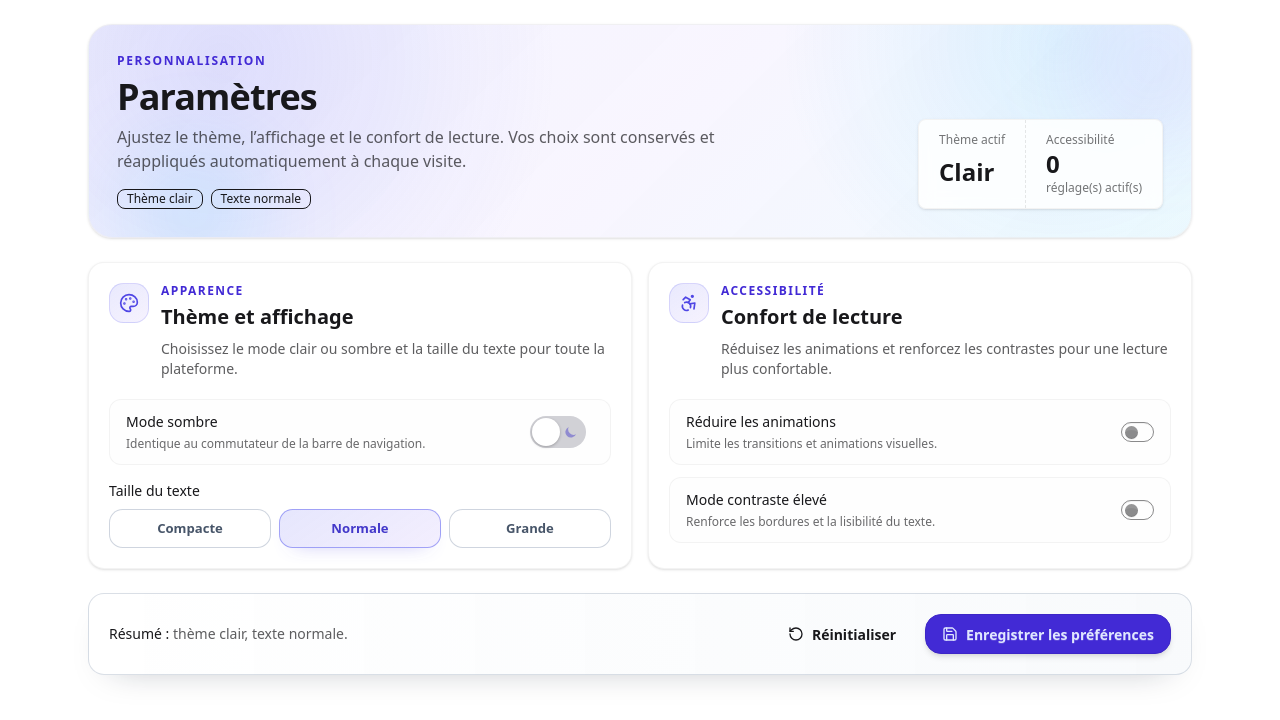
Test: Settings interactions › modifie le thème, la taille du texte et l’accessibilité
Click the checkbox named "Activer le mode sombre" at (558, 432), box left=530, top=416, right=586, bottom=448
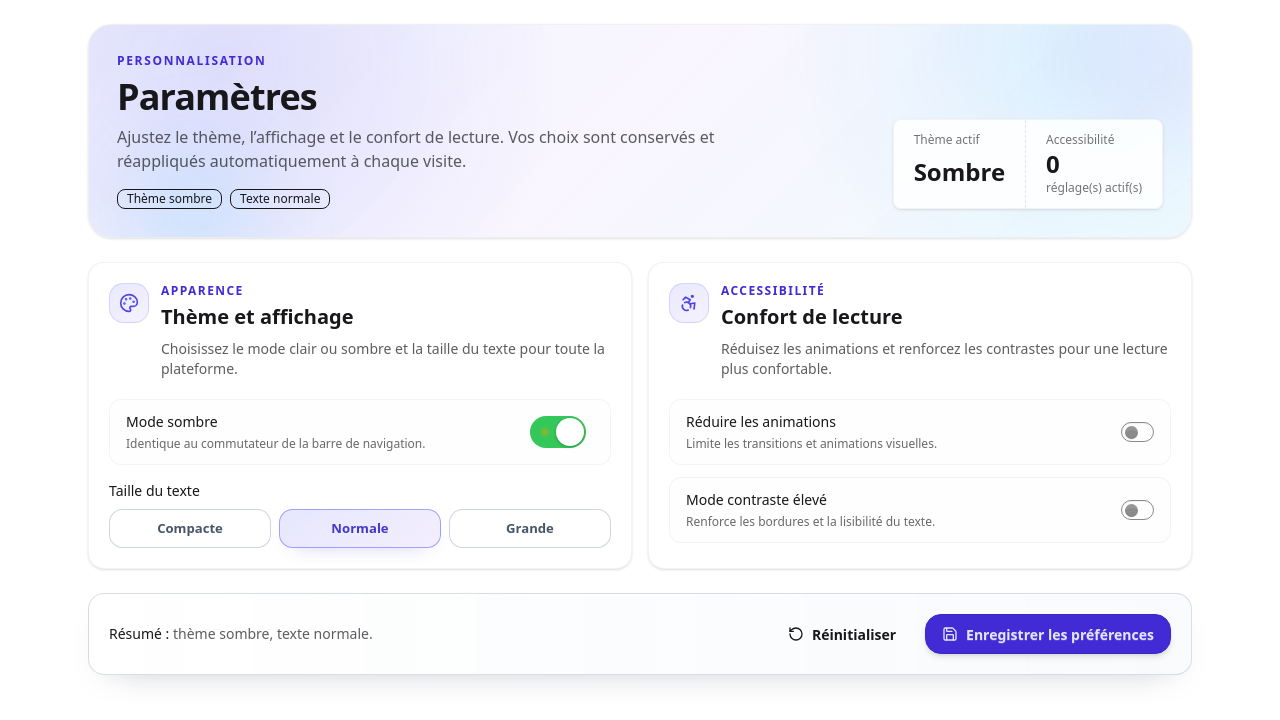
Click the button "Grande" at (530, 529), box left=449, top=509, right=611, bottom=548
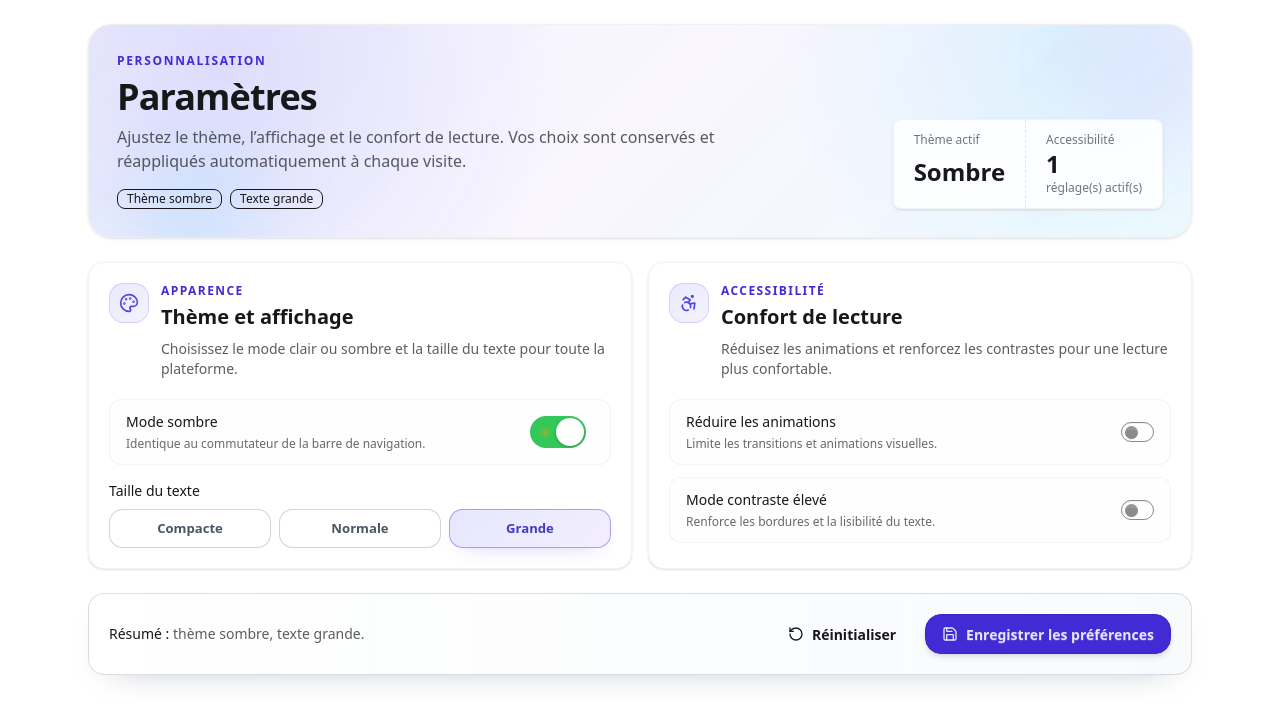
Click the 2nd checkbox at (1138, 432), box left=1121, top=422, right=1154, bottom=442
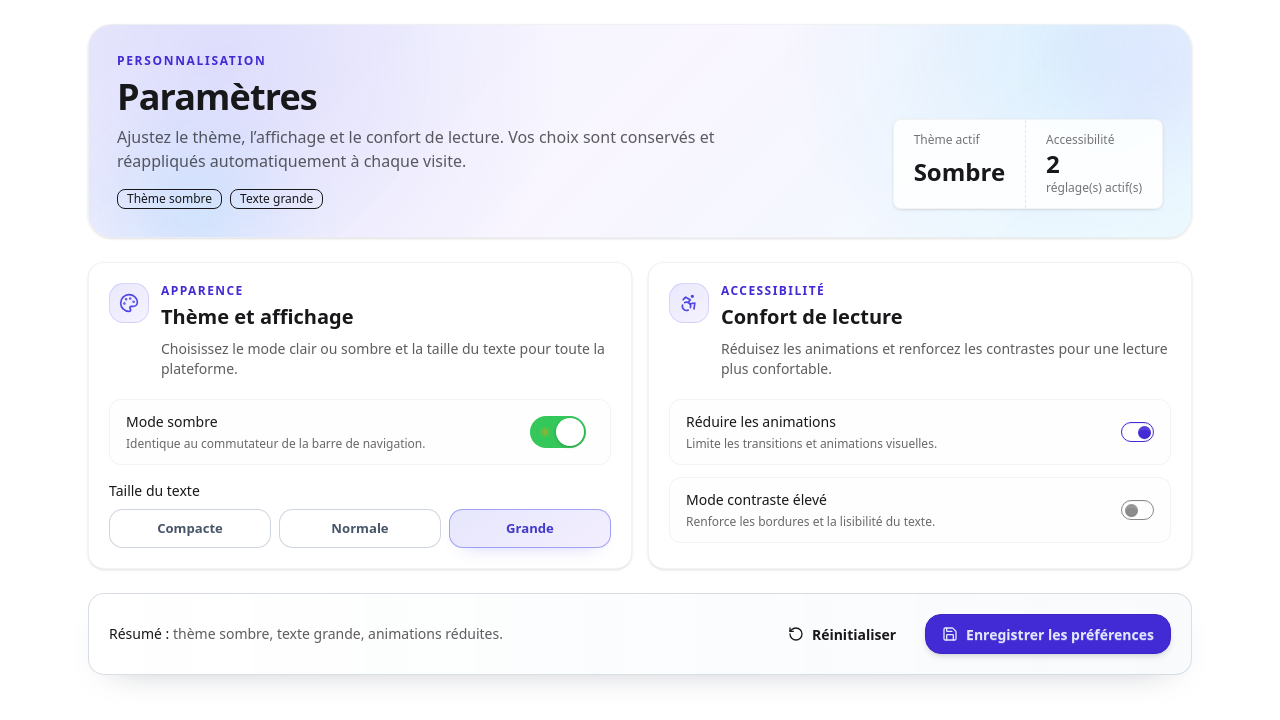
Click the 3rd checkbox at (1138, 510), box left=1121, top=500, right=1154, bottom=520
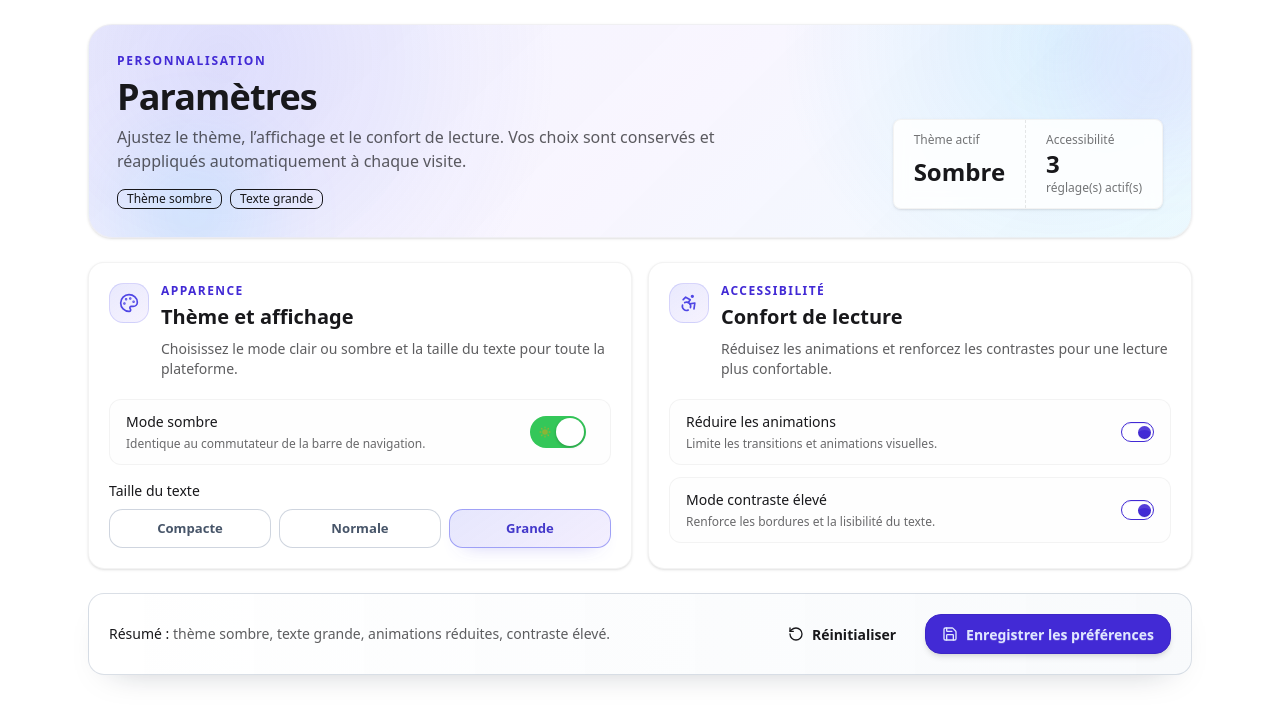
Click the button "Enregistrer les préférences" at (1048, 634), box left=925, top=614, right=1171, bottom=654
(page scrolled)
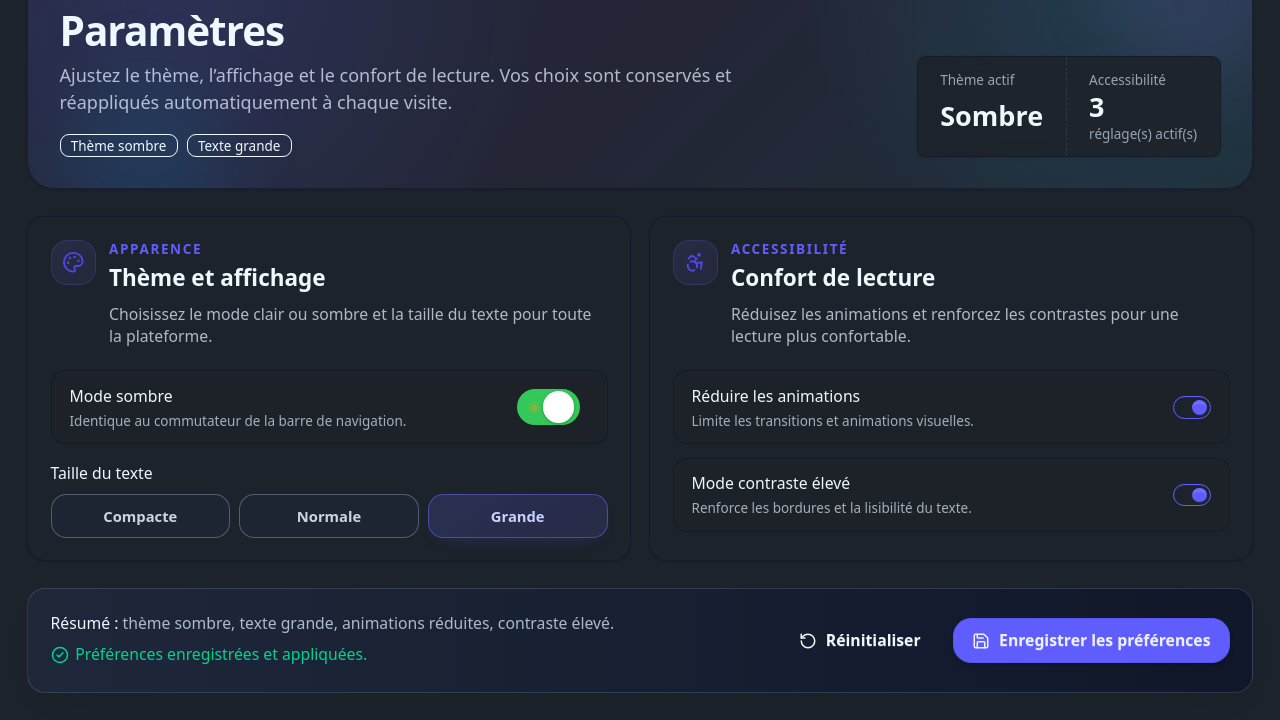
Expected: the text "Préférences enregistrées et appliquées." is shown, left=50, top=643, right=367, bottom=666
